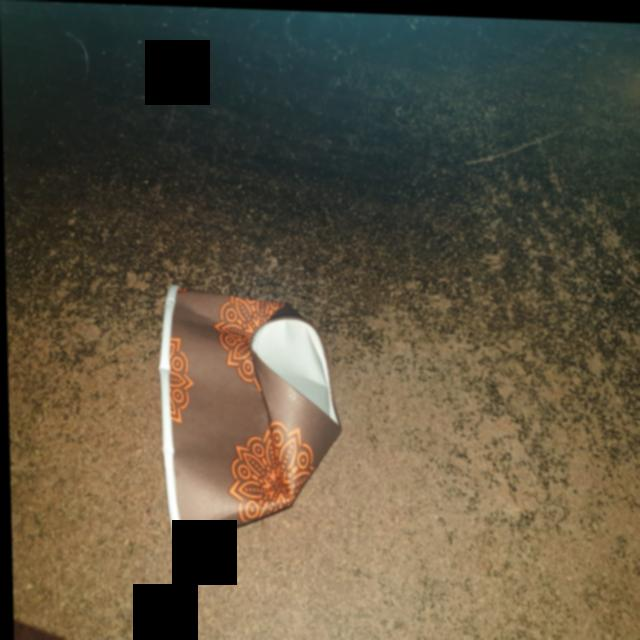cups: (148, 274, 350, 561)
